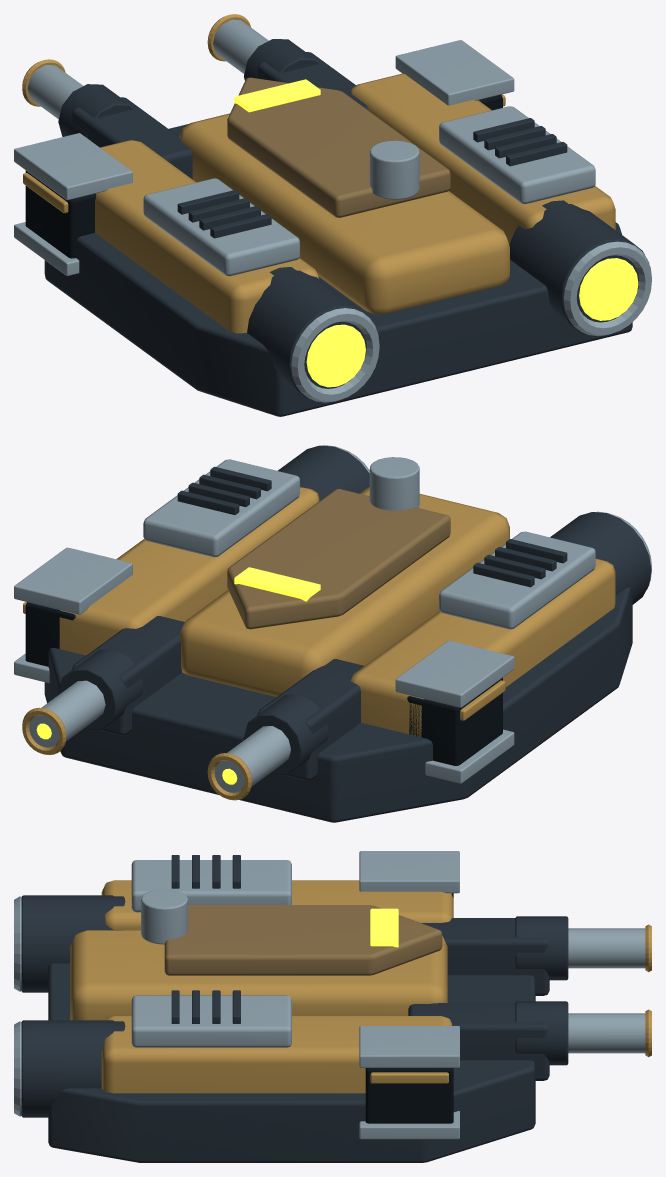
Rendered from miniHive_berco.glb.
3 views of the same model, one above another, from view 1: azimuth 30°, elevation 25°; view 2: azimuth 150°, elevation 25°; view 3: azimuth 270°, elevation 25° (orthographic). The views are drawn at different scales.
Parts seen in each view (by area): view 1: miniHive | Graphite chassis, miniHive | BERCO | armor, miniHive | Titanium, miniHive | BERCO | secondary, miniHive | BERCO | energy, miniHive | Weapon bore, hangar_door_left | BERCO | armor; view 2: miniHive | Graphite chassis, miniHive | BERCO | armor, miniHive | Titanium, miniHive | BERCO | secondary, miniHive | Weapon bore, miniHive | BERCO | energy, hangar_door_left | BERCO | armor; view 3: miniHive | Graphite chassis, miniHive | BERCO | armor, miniHive | Titanium, miniHive | BERCO | secondary, miniHive | Weapon bore, miniHive | BERCO | energy, hangar_door_right | BERCO | armor.
Boxes of the visible parts, box(x1,y1,x2,y2) form: miniHive | Graphite chassis: box(44, 39, 644, 416); miniHive | BERCO | armor: box(22, 14, 615, 333); miniHive | Titanium: box(14, 19, 651, 402); miniHive | BERCO | secondary: box(227, 77, 450, 217); miniHive | BERCO | energy: box(234, 79, 638, 387); miniHive | Weapon bore: box(25, 94, 502, 258); hangar_door_left | BERCO | armor: box(23, 173, 68, 213); miniHive | Graphite chassis: box(44, 445, 651, 822); miniHive | BERCO | armor: box(22, 487, 615, 800); miniHive | Titanium: box(14, 445, 651, 792); miniHive | BERCO | secondary: box(227, 489, 450, 629); miniHive | Weapon bore: box(25, 602, 502, 765); miniHive | BERCO | energy: box(36, 567, 320, 784); hangar_door_left | BERCO | armor: box(460, 680, 505, 720); miniHive | Graphite chassis: box(21, 855, 568, 1162); miniHive | BERCO | armor: box(70, 880, 651, 1093); miniHive | Titanium: box(14, 851, 645, 1139); miniHive | BERCO | secondary: box(164, 905, 442, 975); miniHive | Weapon bore: box(365, 893, 453, 1123); miniHive | BERCO | energy: box(370, 908, 398, 947); hangar_door_right | BERCO | armor: box(370, 1072, 448, 1083).
Size of the model in its own units: 1.55 by 0.595 by 2.03.
